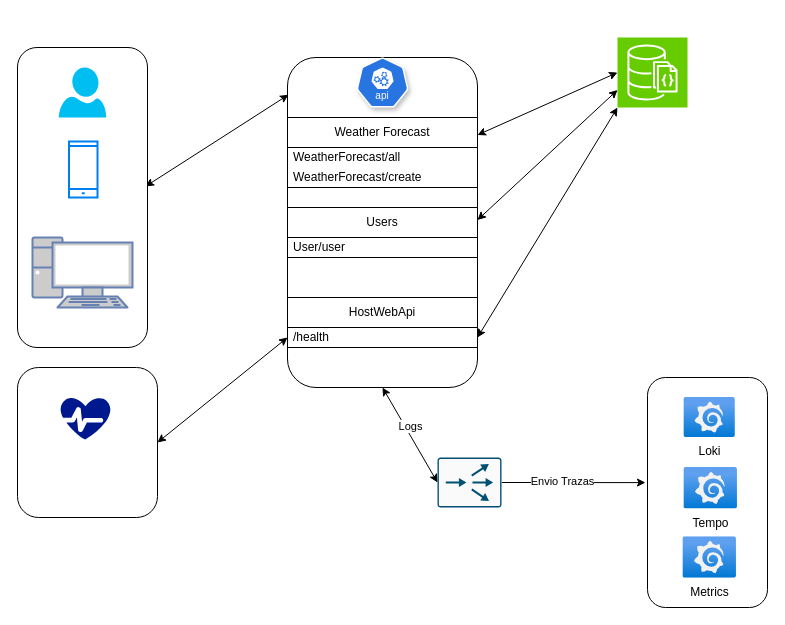
The diagram is 785 pixels wide and 625 high, and some of its shapes have lost their labels. Each missing label, with the centre of its shape:
"Mongo DB" goes at point 652,72.
"Open Telemetry" goes at point 469,482.
"Servicio para comprobar que este healthy" goes at point 85,418.
